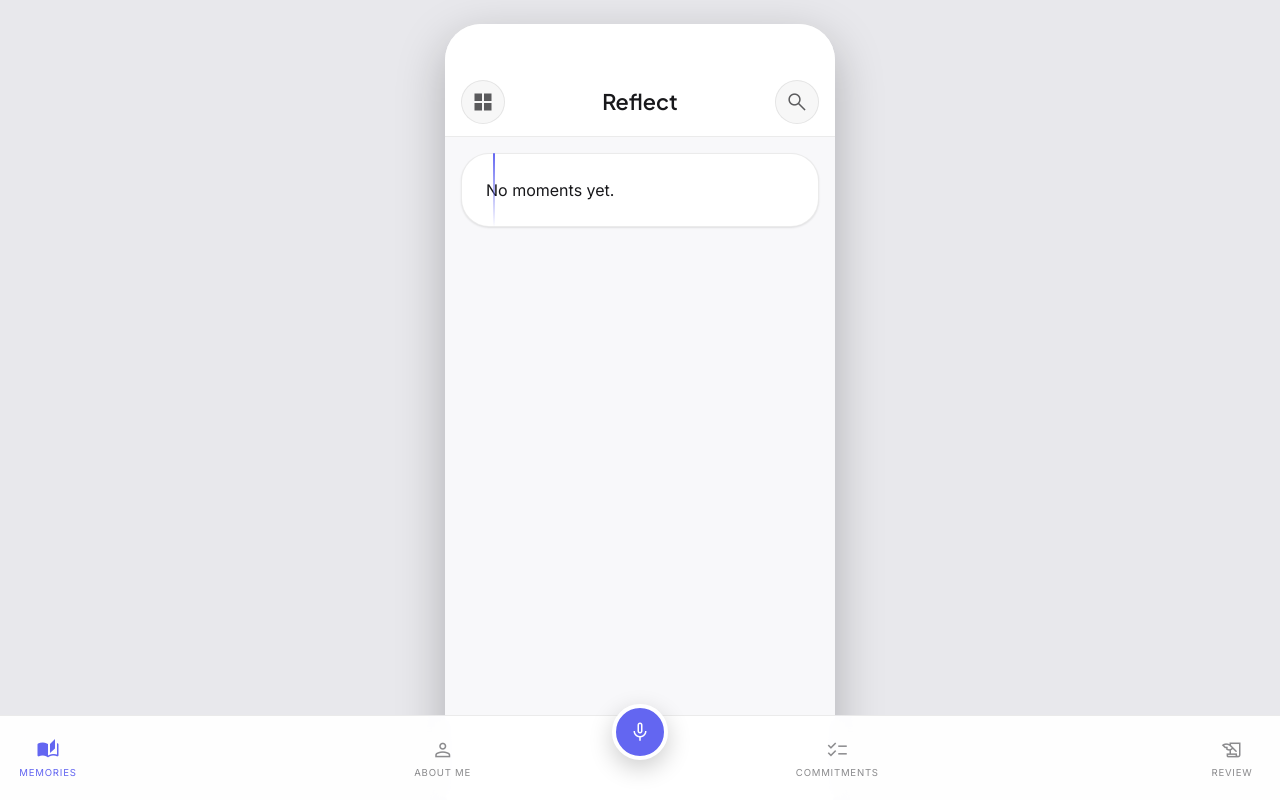
it: Reflect surface › shows empty claims state
Click the link "About Me".
click(443, 759)  # box [411, 738, 475, 780]
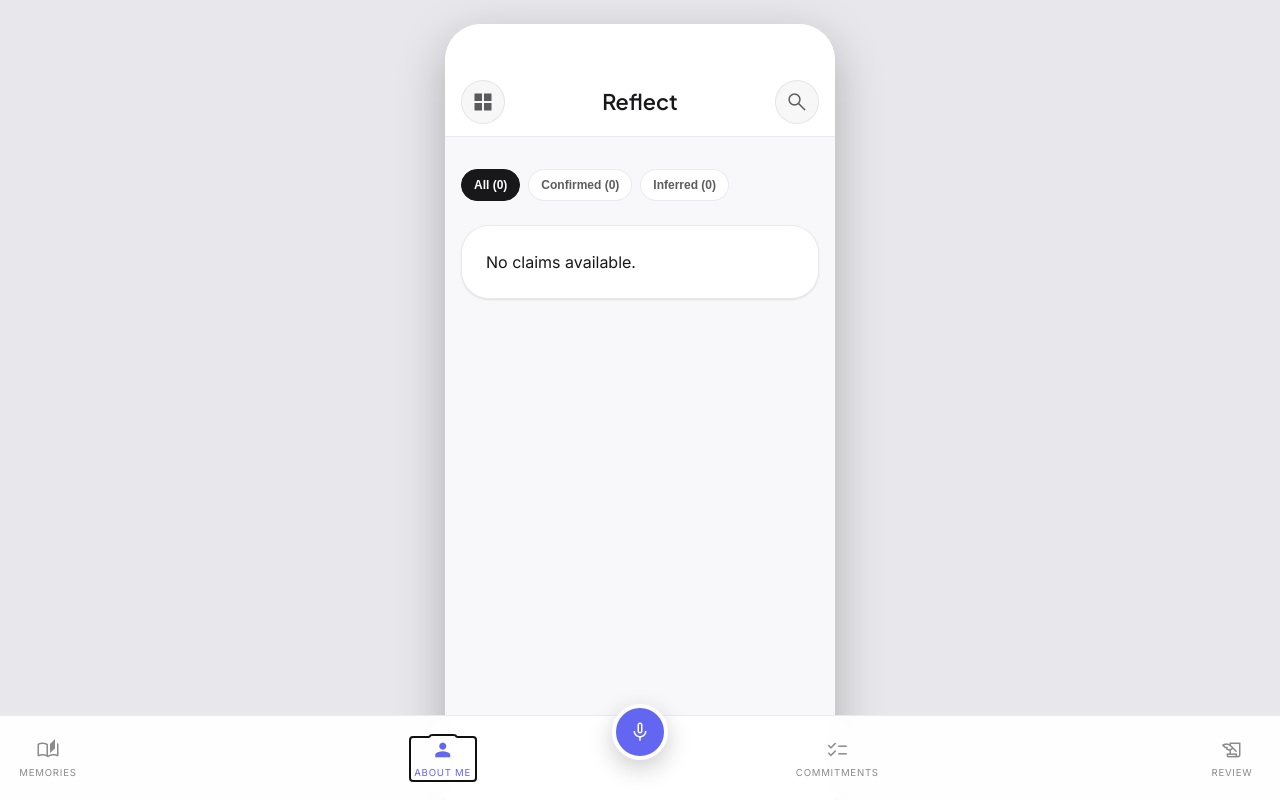
Result: the text "No claims available." is shown at [461, 225, 819, 299]
